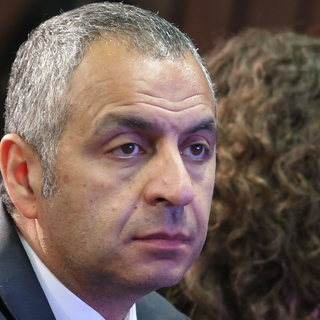eye: (102, 135, 150, 165), (177, 136, 213, 165)
